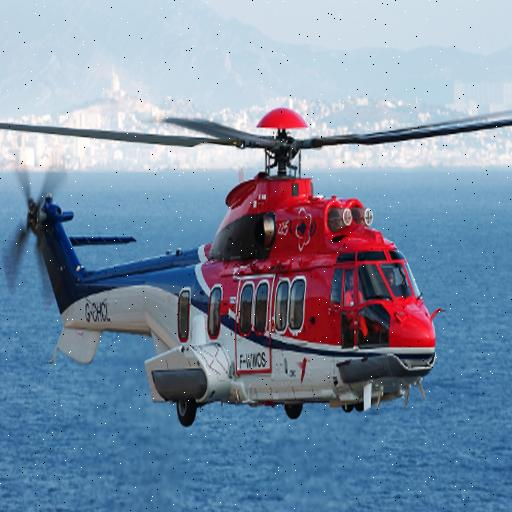helicopter: (1, 109, 512, 435)
